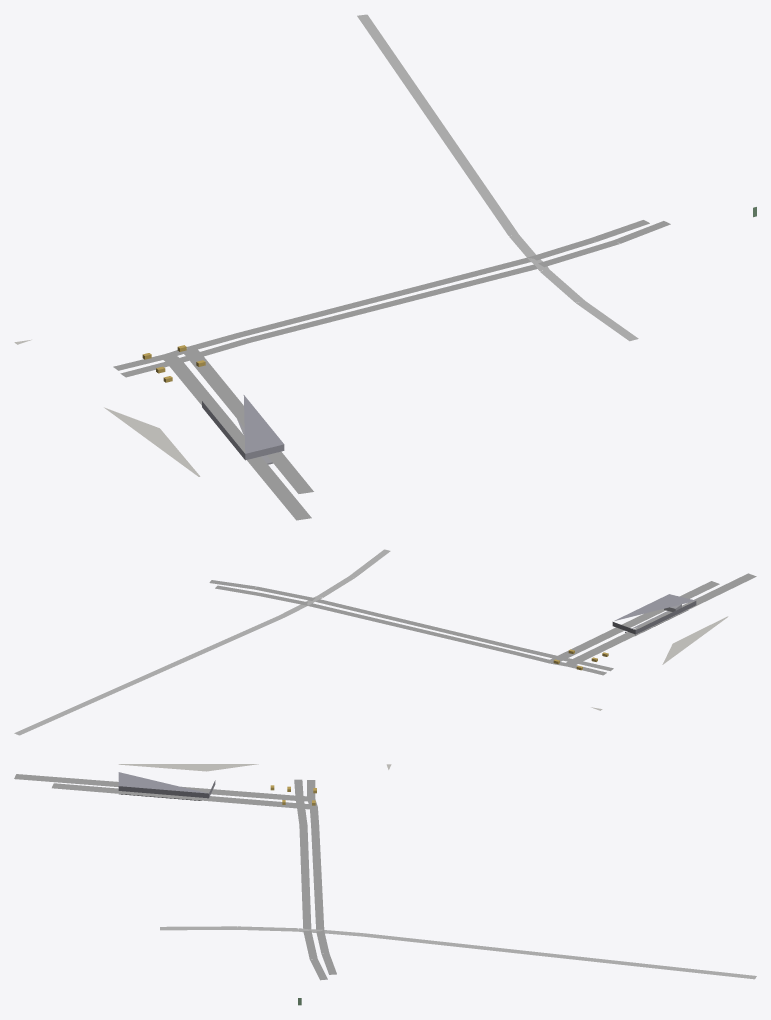
3 views of the same model, one above another, from view 1: azimuth 30°, elevation 25°; view 2: azimuth 150°, elevation 25°; view 3: azimuth 270°, elevation 25° (orthographic). The views are drawn at different scales.
Size of the model in its own units: 496 by 13.26 by 635.
